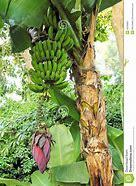banana: (26, 34, 74, 91), (32, 60, 71, 86)
